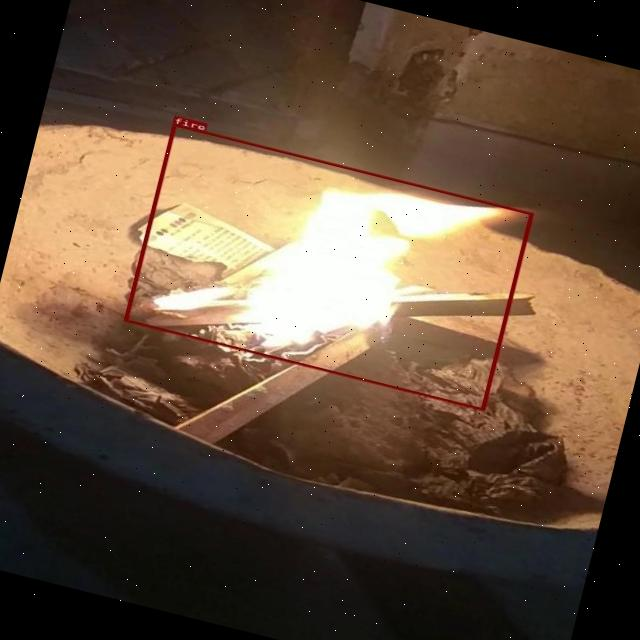fire: (123, 122, 532, 410)
